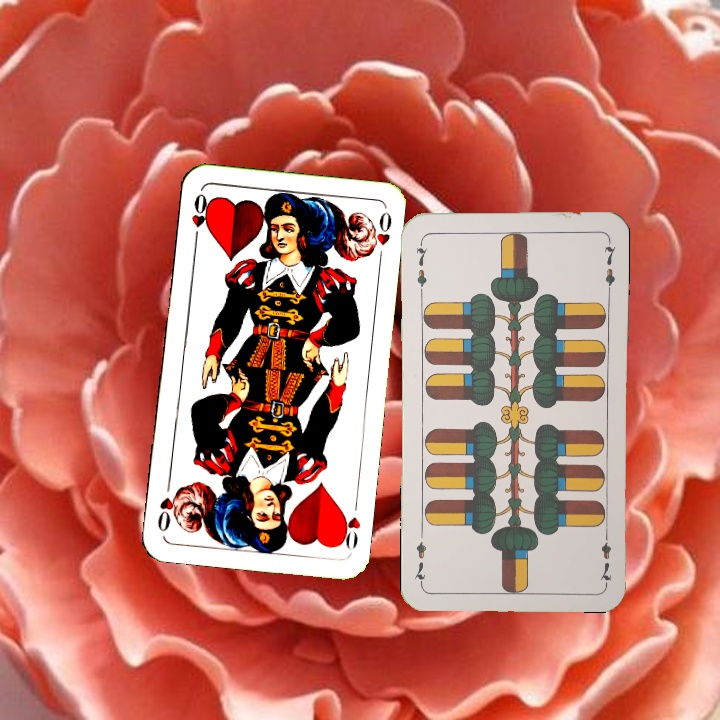E7: (412, 236, 431, 295), (595, 527, 614, 586)
HO: (335, 495, 363, 553), (187, 189, 211, 247)
